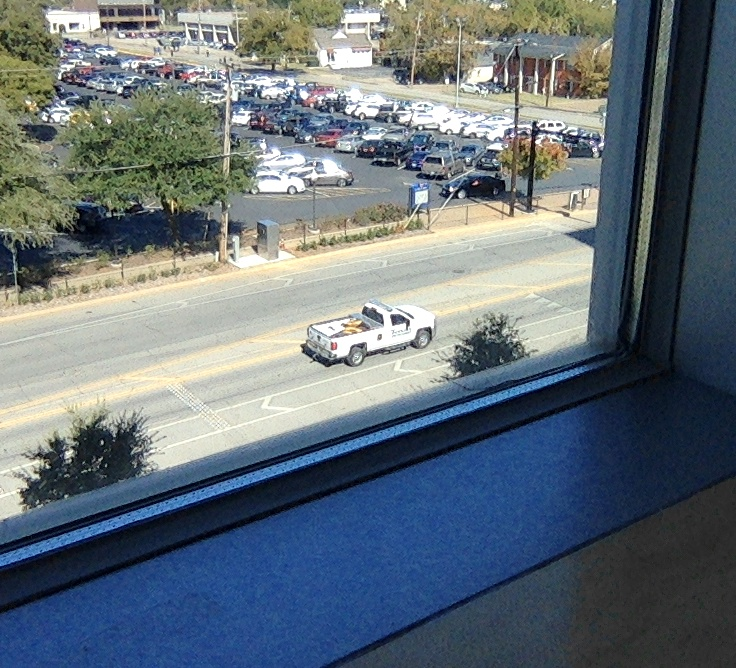car: (300, 300, 436, 368)
